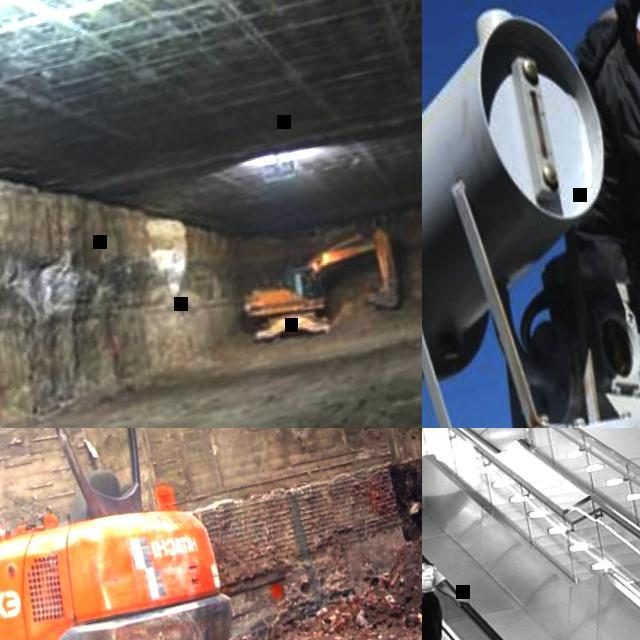machinery: (0, 428, 262, 640), (230, 223, 408, 350)
no_vest: (580, 0, 640, 373), (422, 561, 439, 600)
person: (505, 0, 640, 428), (422, 532, 482, 640)
